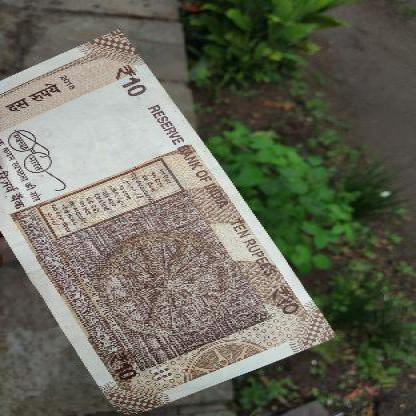New10Back: (5, 29, 323, 402)
